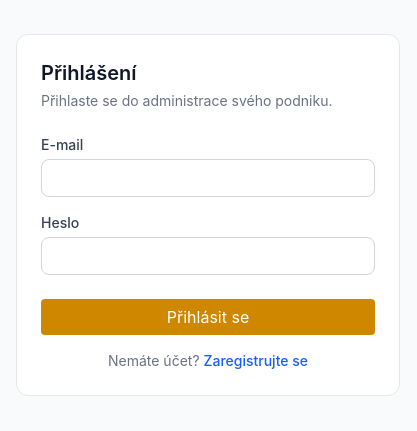
Test: LoginPage › shows a generic error message for non-API failures
The image size is (417, 431).
Type "owner@example.com" into the field labelled "E-mail". click: (208, 178)
box: [41,159,375,197]
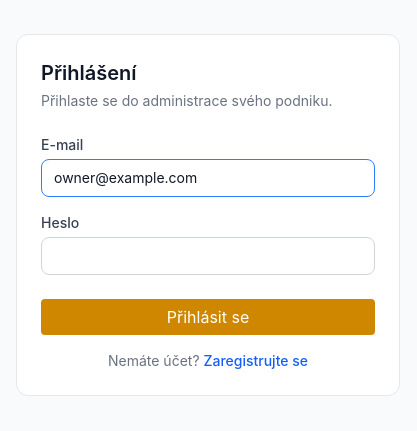
Type "password123" into the password field labelled "Heslo". click: (208, 256)
box: [41,237,375,275]
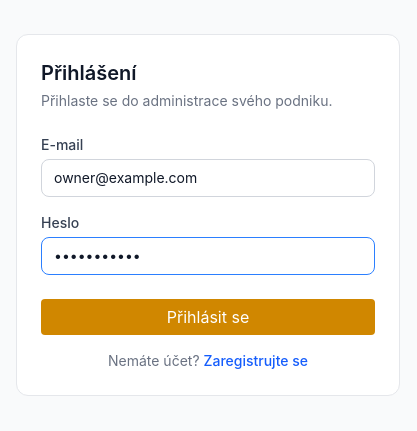
Click the button "Přihlásit se". click: (208, 317)
box: [41,299,375,335]
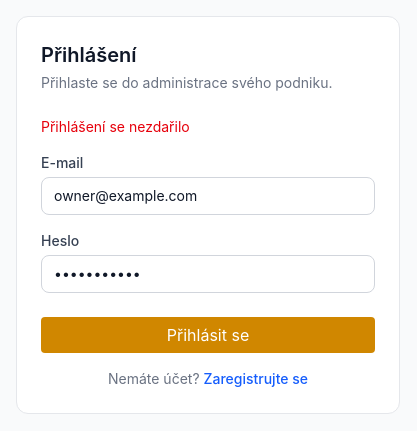
Check: the text "Přihlášení se nezdařilo" is shown, box [41,118,190,135]
